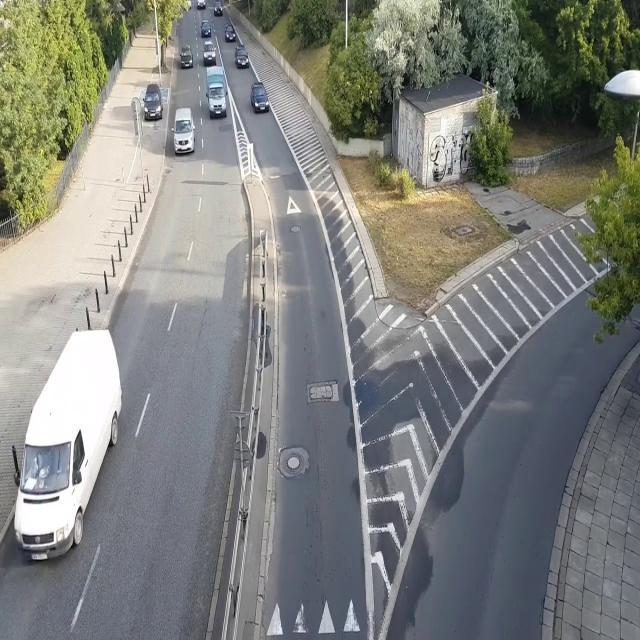car: (142, 84, 164, 120), (250, 81, 270, 113), (235, 45, 250, 70), (202, 40, 216, 66), (179, 44, 194, 68), (224, 24, 236, 43), (200, 19, 212, 38), (213, 2, 223, 16)
truck: (204, 67, 228, 119), (196, 0, 206, 9)
van: (14, 329, 123, 562), (170, 107, 196, 155)
